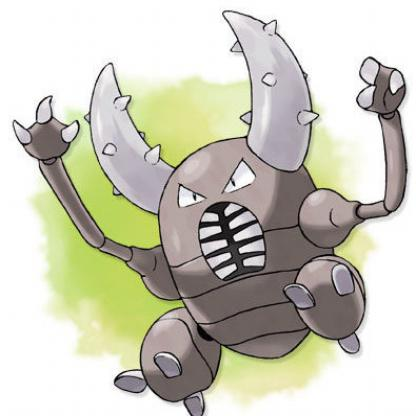Pinsir: (22, 11, 416, 416)
